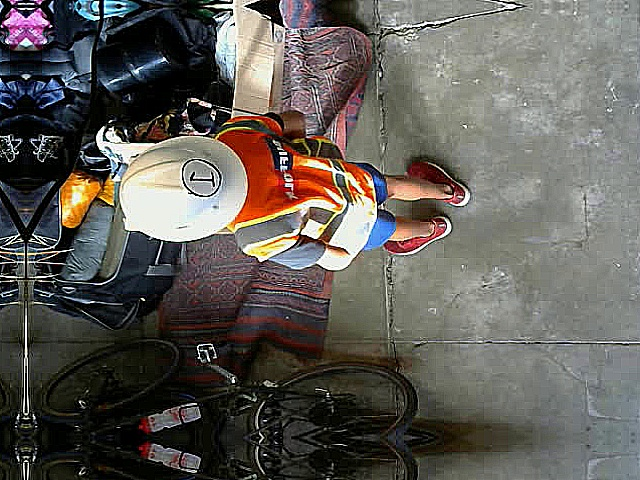one: (181, 159, 220, 196)
